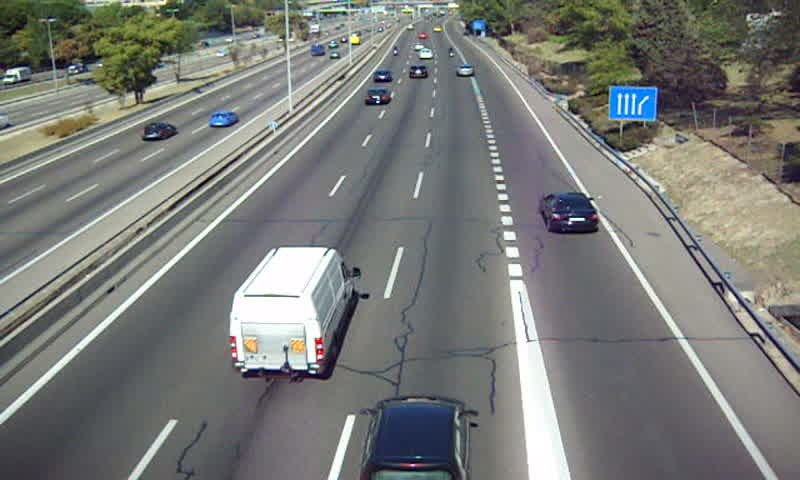car: (362, 397, 470, 480), (540, 193, 599, 234), (364, 88, 389, 105), (371, 68, 394, 84), (407, 64, 427, 80), (454, 64, 475, 77), (417, 48, 436, 59)
van: (230, 246, 361, 379)
